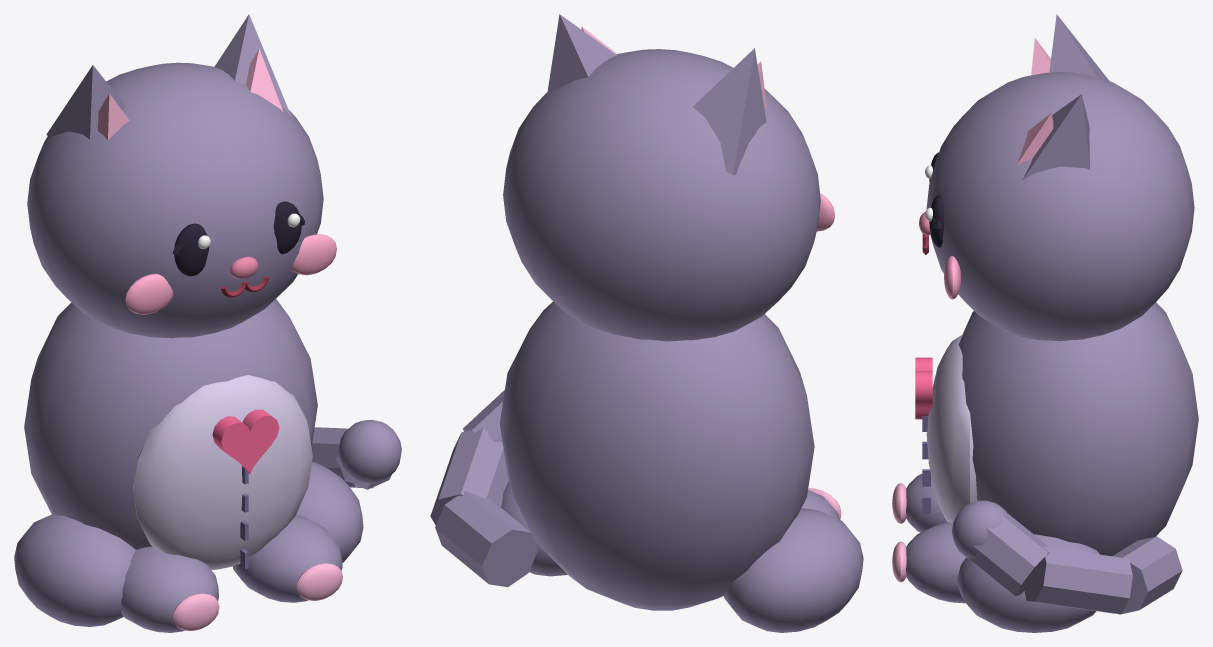
The model's file is dina_morgan.glb.
3 renders of one model, left to right at view 1: azimuth 30°, elevation 25°; view 2: azimuth 150°, elevation 25°; view 3: azimuth 270°, elevation 25°, orthographic. The views are drawn at different scales.
Parts seen in each view (by area): view 1: Morgan_body, Tail, EyesOpen; view 2: Morgan_body, Tail; view 3: Morgan_body, Tail, EyesOpen.
Part boxes in pixels (x1,y1,x2,y2): Morgan_body: [14, 14, 363, 632]; Tail: [311, 420, 401, 489]; EyesOpen: [174, 201, 301, 276]; Morgan_body: [499, 14, 863, 632]; Tail: [430, 390, 537, 587]; Morgan_body: [892, 14, 1198, 632]; Tail: [951, 500, 1182, 614]; EyesOpen: [925, 152, 943, 247].
Size of the model in its own units: 0.4735 by 0.6664 by 0.355.
